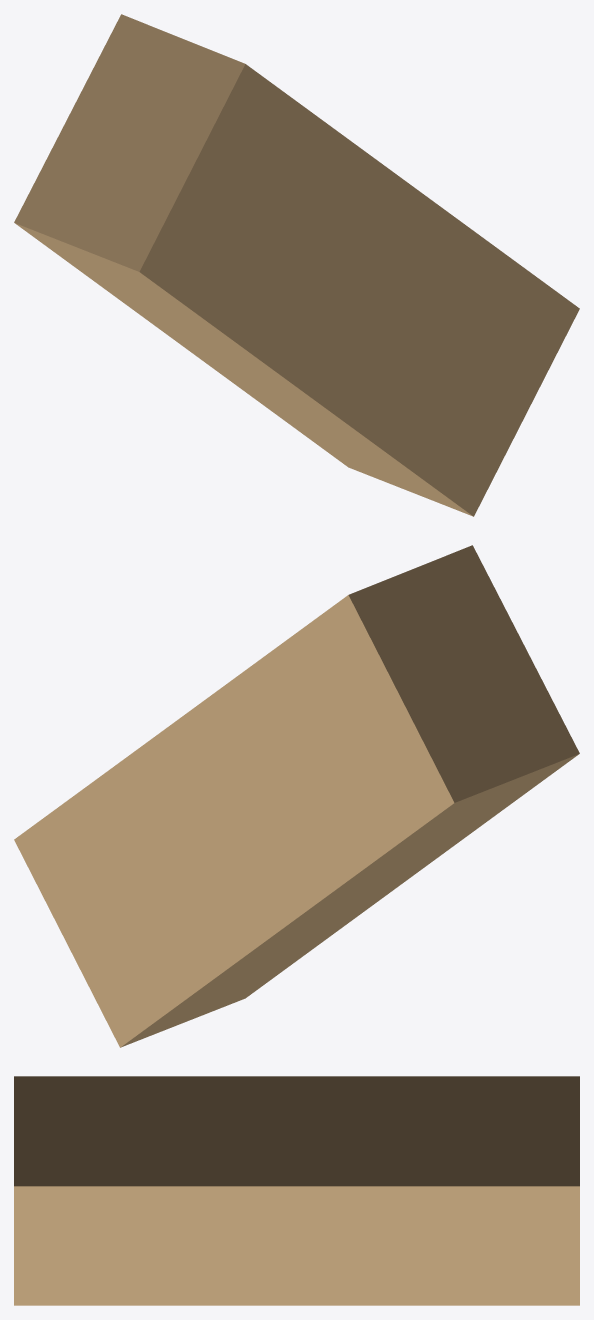
3 views of the same model, one above another, from view 1: azimuth 30°, elevation 25°; view 2: azimuth 150°, elevation 25°; view 3: azimuth 270°, elevation 25° (orthographic). The views are drawn at different scales.
Parts seen in each view (by area): view 1: 0_1_0_2_0_0_0_3_0_2_1; view 2: 0_1_0_2_0_0_0_3_0_2_1; view 3: 0_1_0_2_0_0_0_3_0_2_1.
Part boxes in pixels (x1,y1,x2,y2): 0_1_0_2_0_0_0_3_0_2_1: (14,14,579,516); 0_1_0_2_0_0_0_3_0_2_1: (14,545,579,1047); 0_1_0_2_0_0_0_3_0_2_1: (14,1076,579,1305).
Size of the model in its own units: 8.39 by 9.09 by 21.
